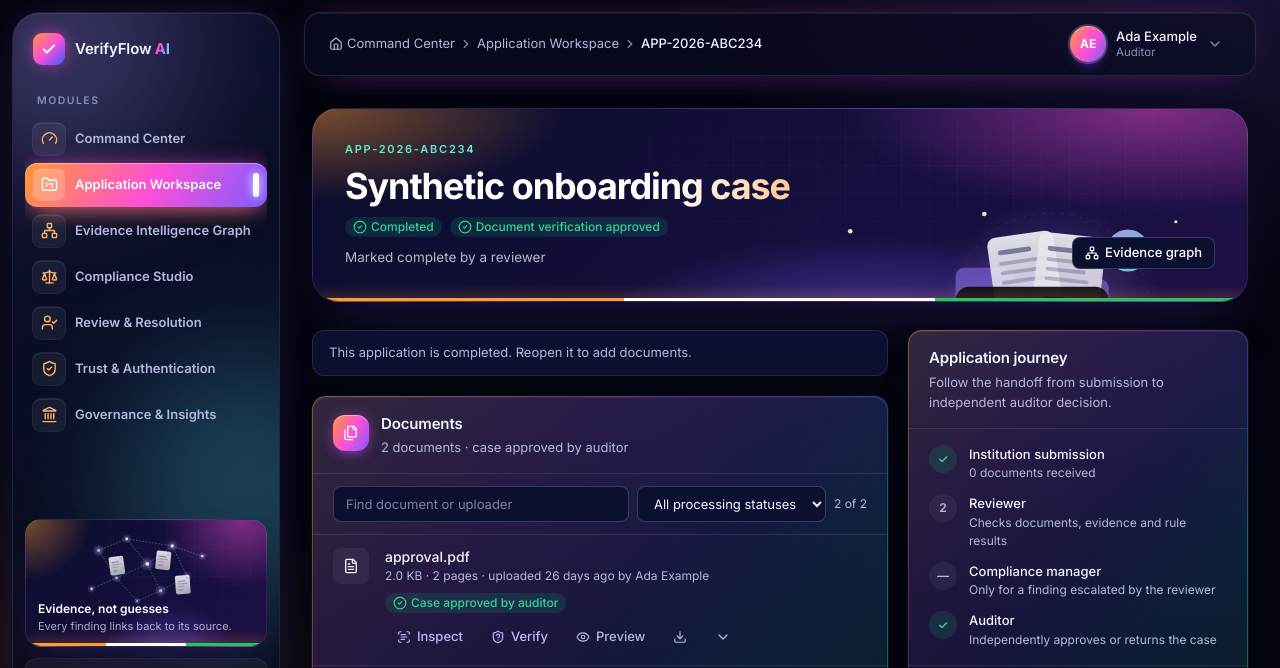
application workspace › keeps the auditor decision clear and filters the document inventory
Expected: the text "approval.pdf" is shown, [385,548,470,564]
Type "faculty" into the field named "Find a document" at (481, 504), box [333,486,629,522]
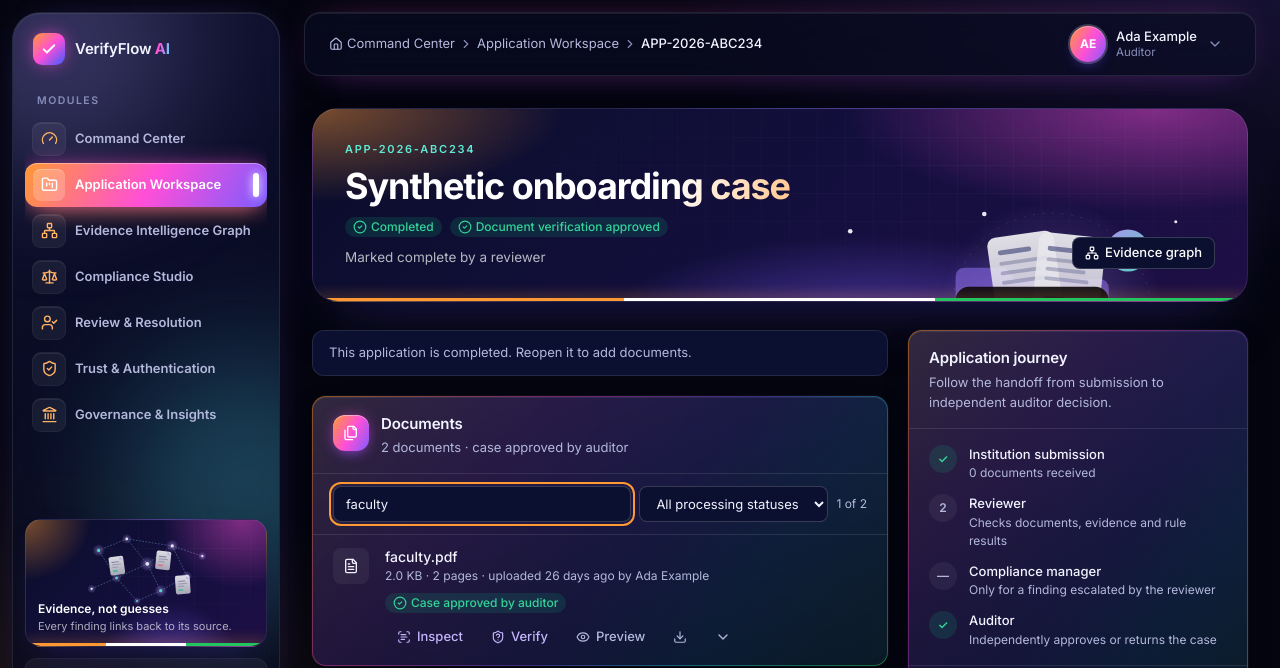
Expected: the text "faculty.pdf" is shown, [385,548,458,564]
Result: the text "approval.pdf" is gone
